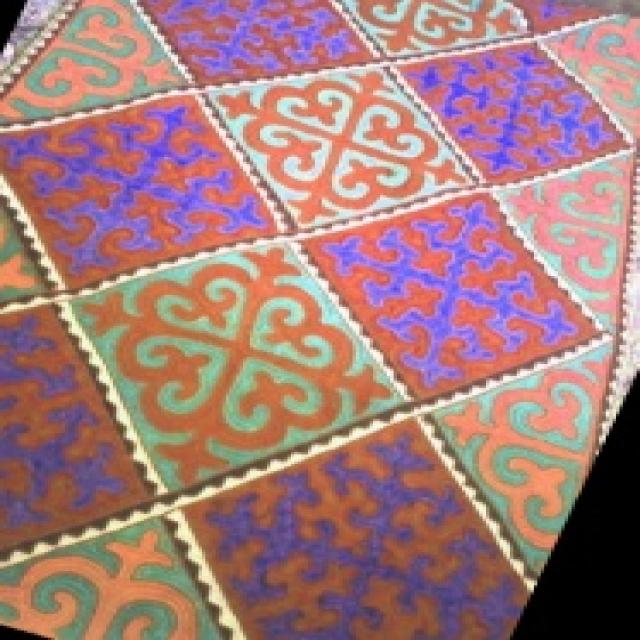Unity: (70, 245, 403, 490), (209, 69, 482, 240), (422, 345, 615, 578), (496, 155, 636, 341), (0, 2, 190, 125), (333, 0, 526, 56)
